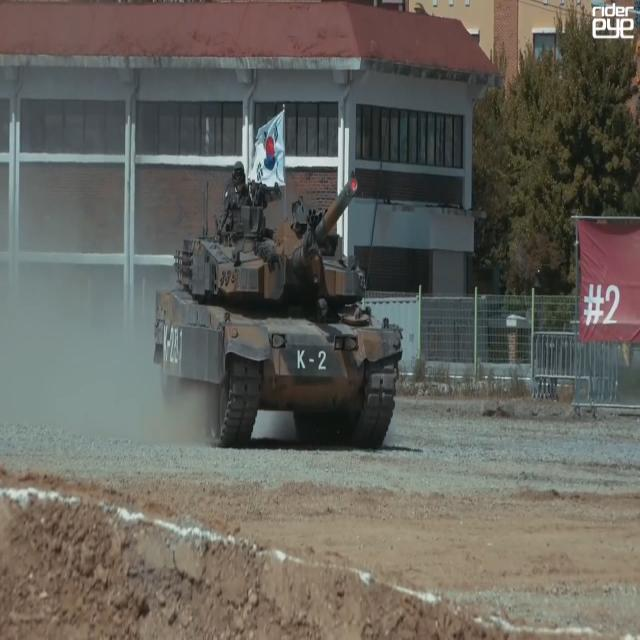korea tank: (153, 160, 402, 449)
